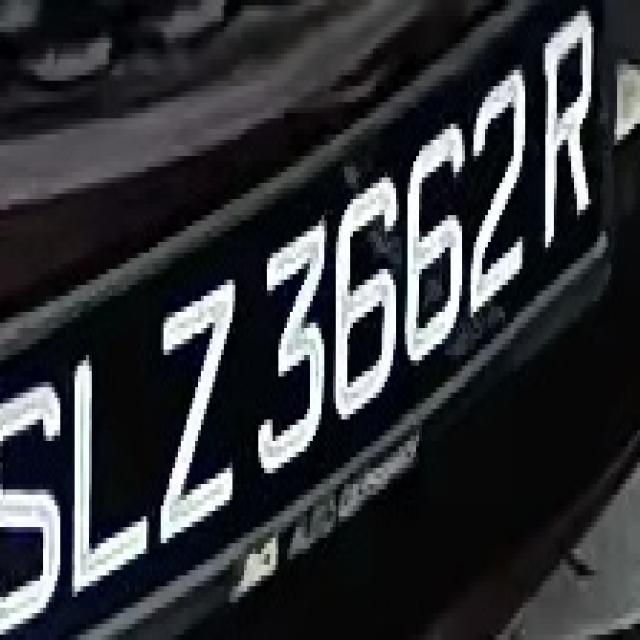2: (459, 59, 537, 317)
3: (250, 199, 330, 489)
6: (327, 150, 399, 447), (399, 118, 471, 366)
L: (60, 328, 158, 592)
R: (531, 0, 600, 253)
S: (3, 355, 69, 635)
Z: (155, 274, 250, 549)
